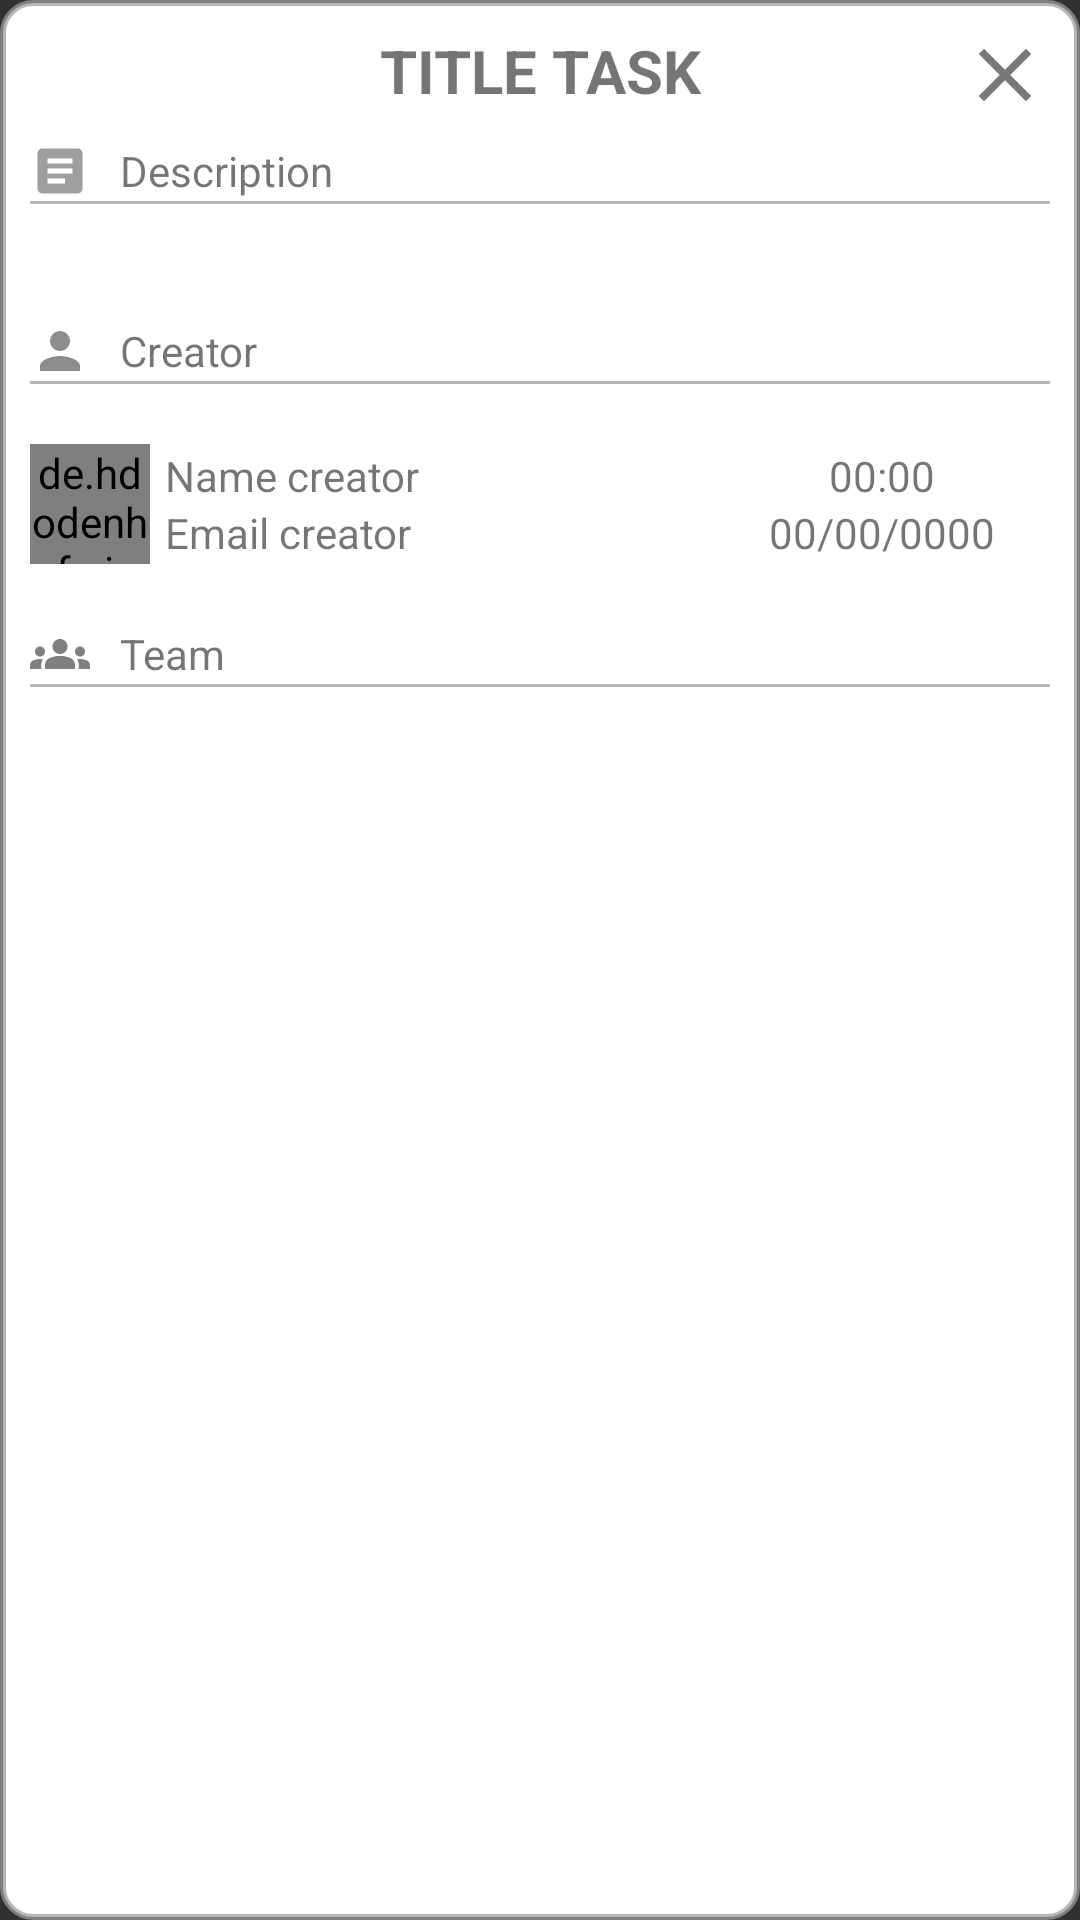

Icons on this 1080 × 1920 Android screen, each with the point to tap as point (x, y):
article: point (60, 171)
close: point (1005, 75)
person: point (60, 351)
